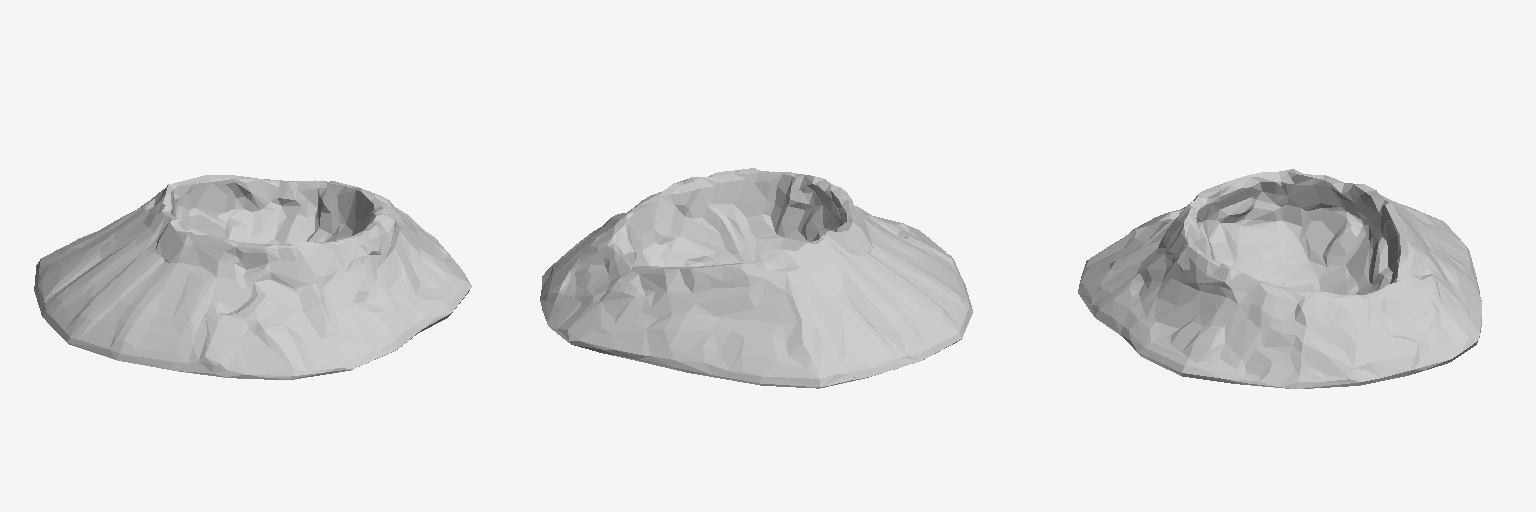
The model's file is volcano.OBJ.
The picture shows the model from 3 angles: view 1: azimuth 30°, elevation 25°; view 2: azimuth 150°, elevation 25°; view 3: azimuth 270°, elevation 25°; orthographic projection.
Visible parts, largest first — view 1: Group56062; view 2: Group56062; view 3: Group56062.
Part boxes in pixels (x1,y1,x2,y2): Group56062: (34, 175, 471, 379); Group56062: (540, 168, 972, 388); Group56062: (1078, 169, 1481, 388).
Bounding box in the file's own units: 79.22 × 19.42 × 72.56.